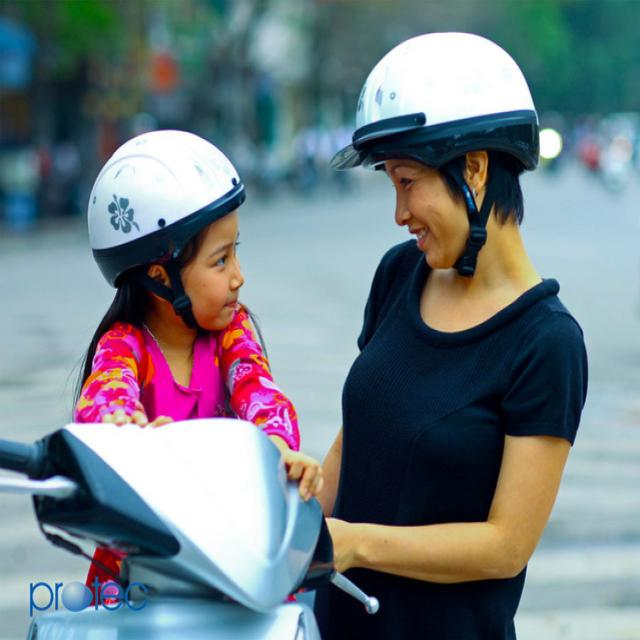1-2-helmet: (330, 32, 540, 173), (87, 128, 247, 288)
